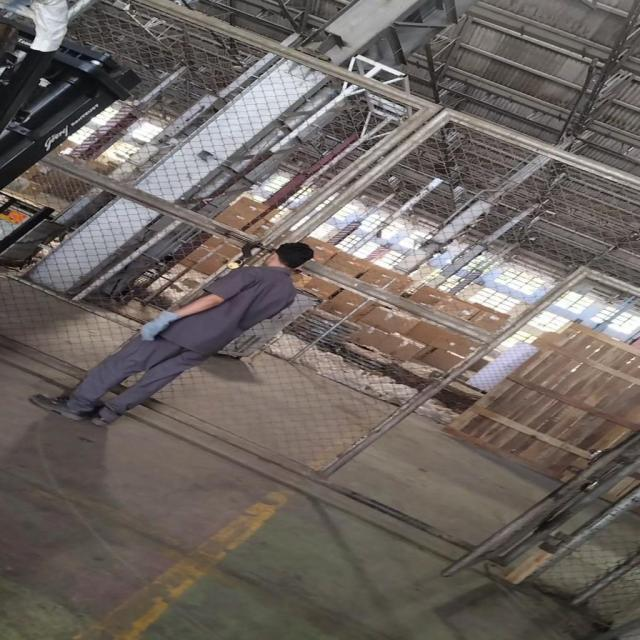Gloves-Detection: (141, 308, 171, 346)
